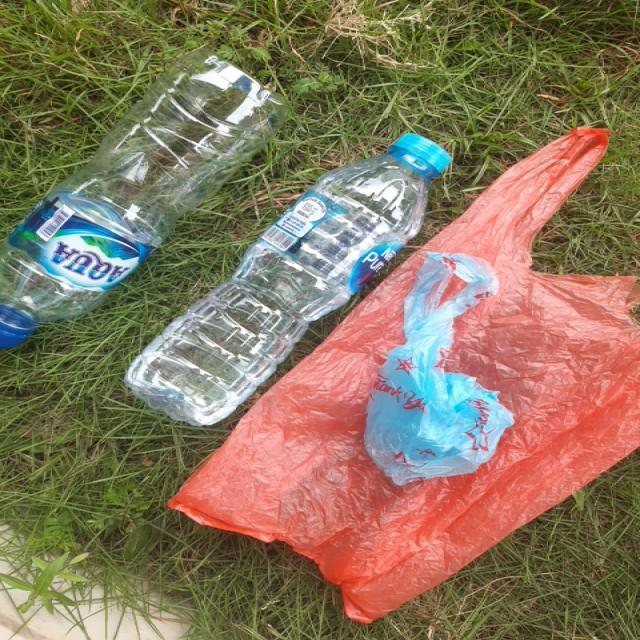Single-layer Plastic: (151, 111, 640, 635), (355, 242, 524, 491)
